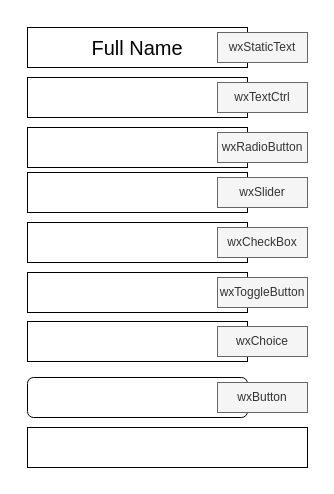
Some shapes in this 334 by 494 pixel diagram are drawn without their labels. The box of each missing label's shape, as (x1, y1, x2, y2) in pixels:
Add Data: (26, 376, 248, 418)
Status Bar: (26, 426, 308, 468)
